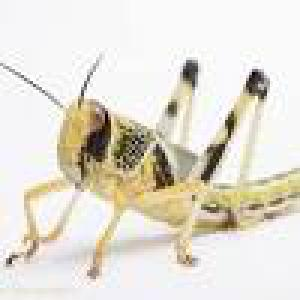locust: (28, 49, 298, 262)
